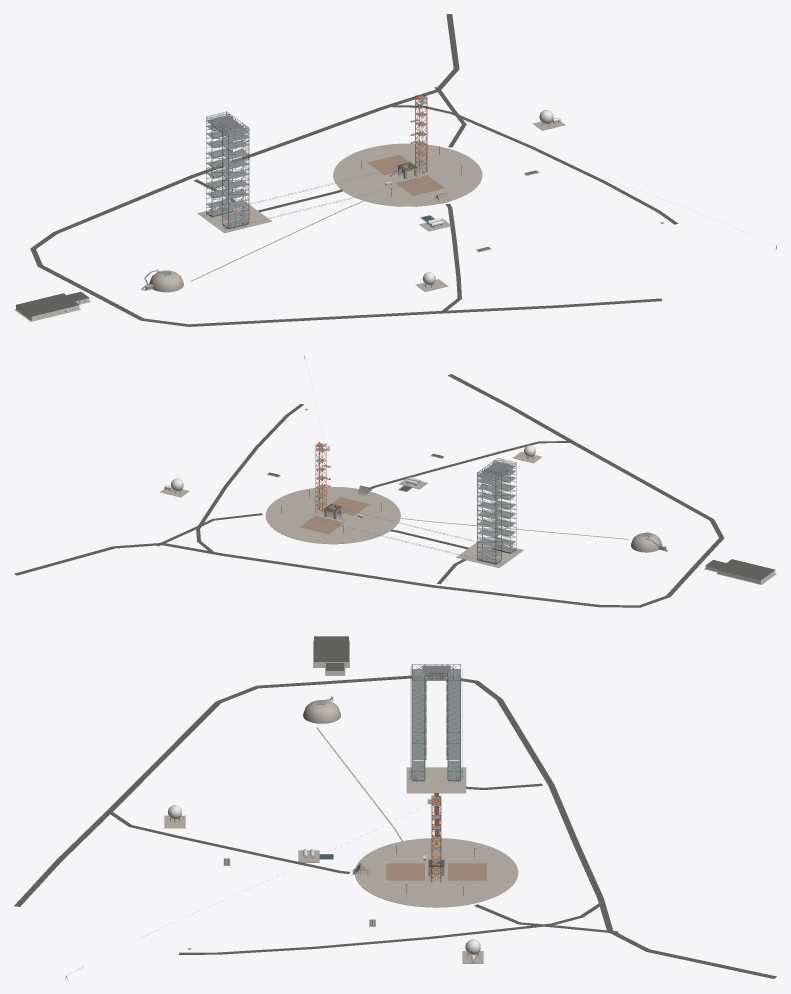
3 views of the same model, one above another, from view 1: azimuth 30°, elevation 25°; view 2: azimuth 150°, elevation 25°; view 3: azimuth 270°, elevation 25° (orthographic). The views are drawn at different scales.
Parts seen in each view (by area): view 1: Roads_Asphalt, Apron_Concrete, Service_Structure_Steel, Service_Structure_Deck, Apron_Brick, Operations_Support_Asphalt, Roads_Concrete, Umbilical_Tower_Red, Blockhouse_Concrete; view 2: Roads_Asphalt, Apron_Concrete, Service_Structure_Steel, Service_Structure_Deck, Apron_Brick, Operations_Support_Asphalt, Roads_Concrete, Umbilical_Tower_Red, Blockhouse_Concrete; view 3: Roads_Asphalt, Apron_Concrete, Service_Structure_Deck, Service_Structure_Steel, Apron_Brick, Roads_Concrete, Operations_Support_Asphalt, Blockhouse_Concrete, Umbilical_Tower_Red.
Boxes of the visible parts, box(x1,y1,x2,y2) form: Roads_Asphalt: box(30, 14, 677, 326); Apron_Concrete: box(333, 143, 482, 206); Service_Structure_Steel: box(206, 111, 249, 227); Service_Structure_Deck: box(206, 119, 248, 227); Apron_Brick: box(367, 154, 444, 195); Operations_Support_Asphalt: box(16, 291, 89, 316); Roads_Concrete: box(197, 202, 271, 232); Umbilical_Tower_Red: box(415, 94, 427, 173); Blockhouse_Concrete: box(149, 270, 183, 292); Roads_Asphalt: box(14, 374, 724, 607); Apron_Concrete: box(265, 487, 400, 544); Service_Structure_Steel: box(477, 458, 516, 563); Service_Structure_Deck: box(478, 464, 515, 563); Apron_Brick: box(299, 497, 369, 534); Operations_Support_Asphalt: box(706, 559, 774, 580); Roads_Concrete: box(456, 539, 523, 567); Umbilical_Tower_Red: box(315, 442, 326, 514); Blockhouse_Concrete: box(631, 533, 662, 552); Roads_Asphalt: box(14, 675, 776, 978); Apron_Concrete: box(354, 838, 518, 907); Service_Structure_Deck: box(412, 669, 460, 779); Service_Structure_Steel: box(411, 664, 460, 779); Apron_Brick: box(386, 863, 486, 880); Roads_Concrete: box(406, 767, 466, 793); Operations_Support_Asphalt: box(314, 636, 348, 670); Blockhouse_Concrete: box(303, 700, 340, 723); Umbilical_Tower_Red: box(431, 795, 441, 881).
Bounding box in the file's own units: 643 × 95.91 × 611.
